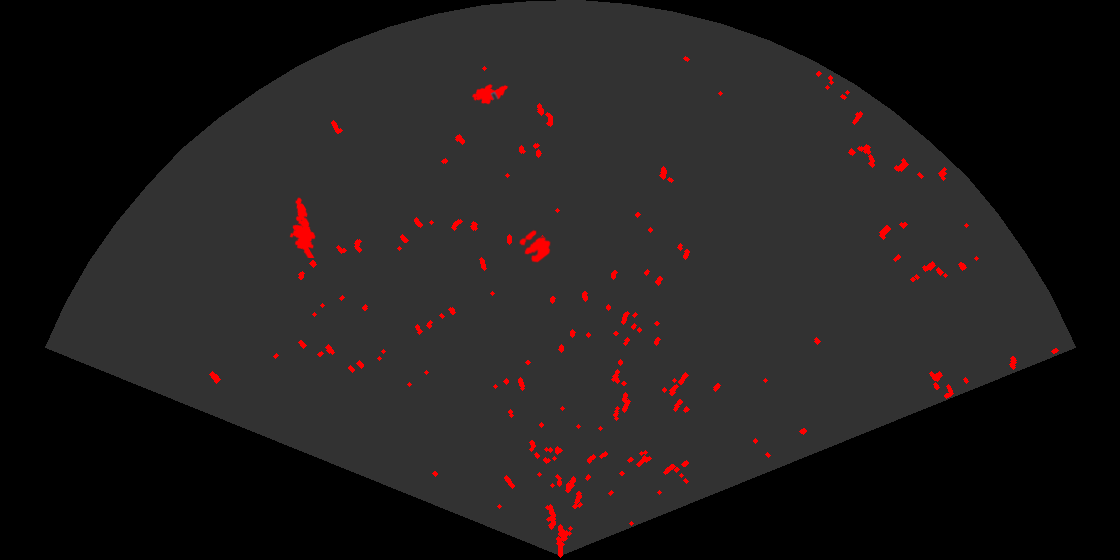AUV: (470, 82, 510, 106)
ball: (518, 228, 552, 264)
frogman: (288, 196, 317, 258)
